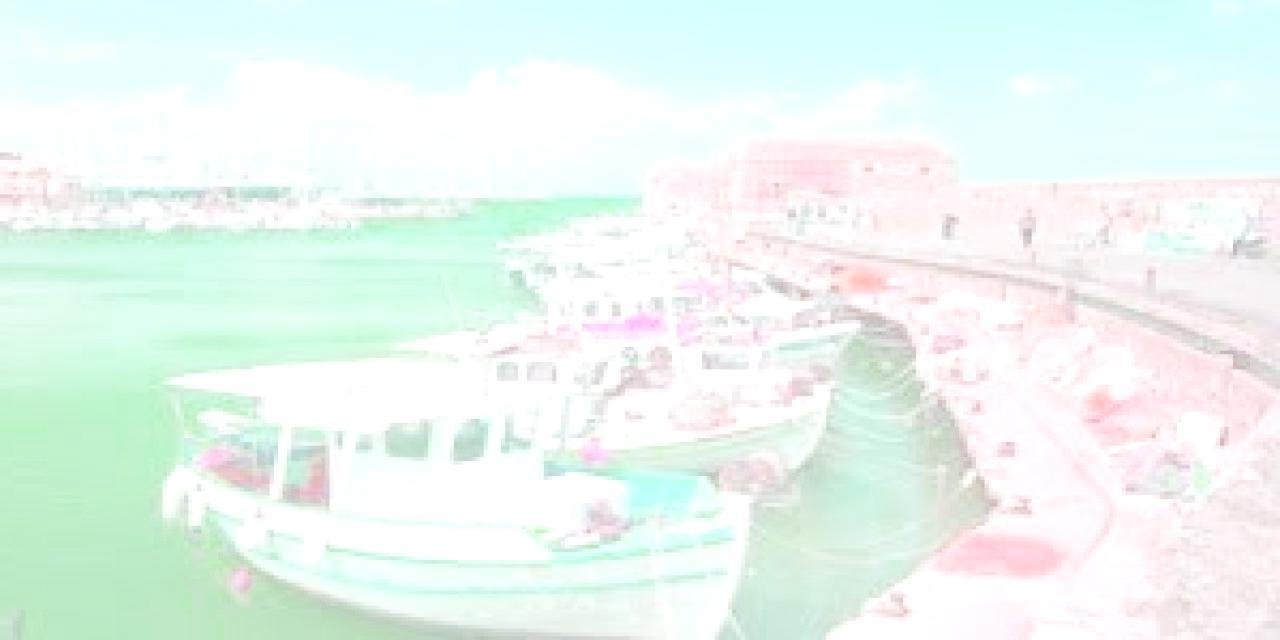Kules: (639, 132, 958, 223)
